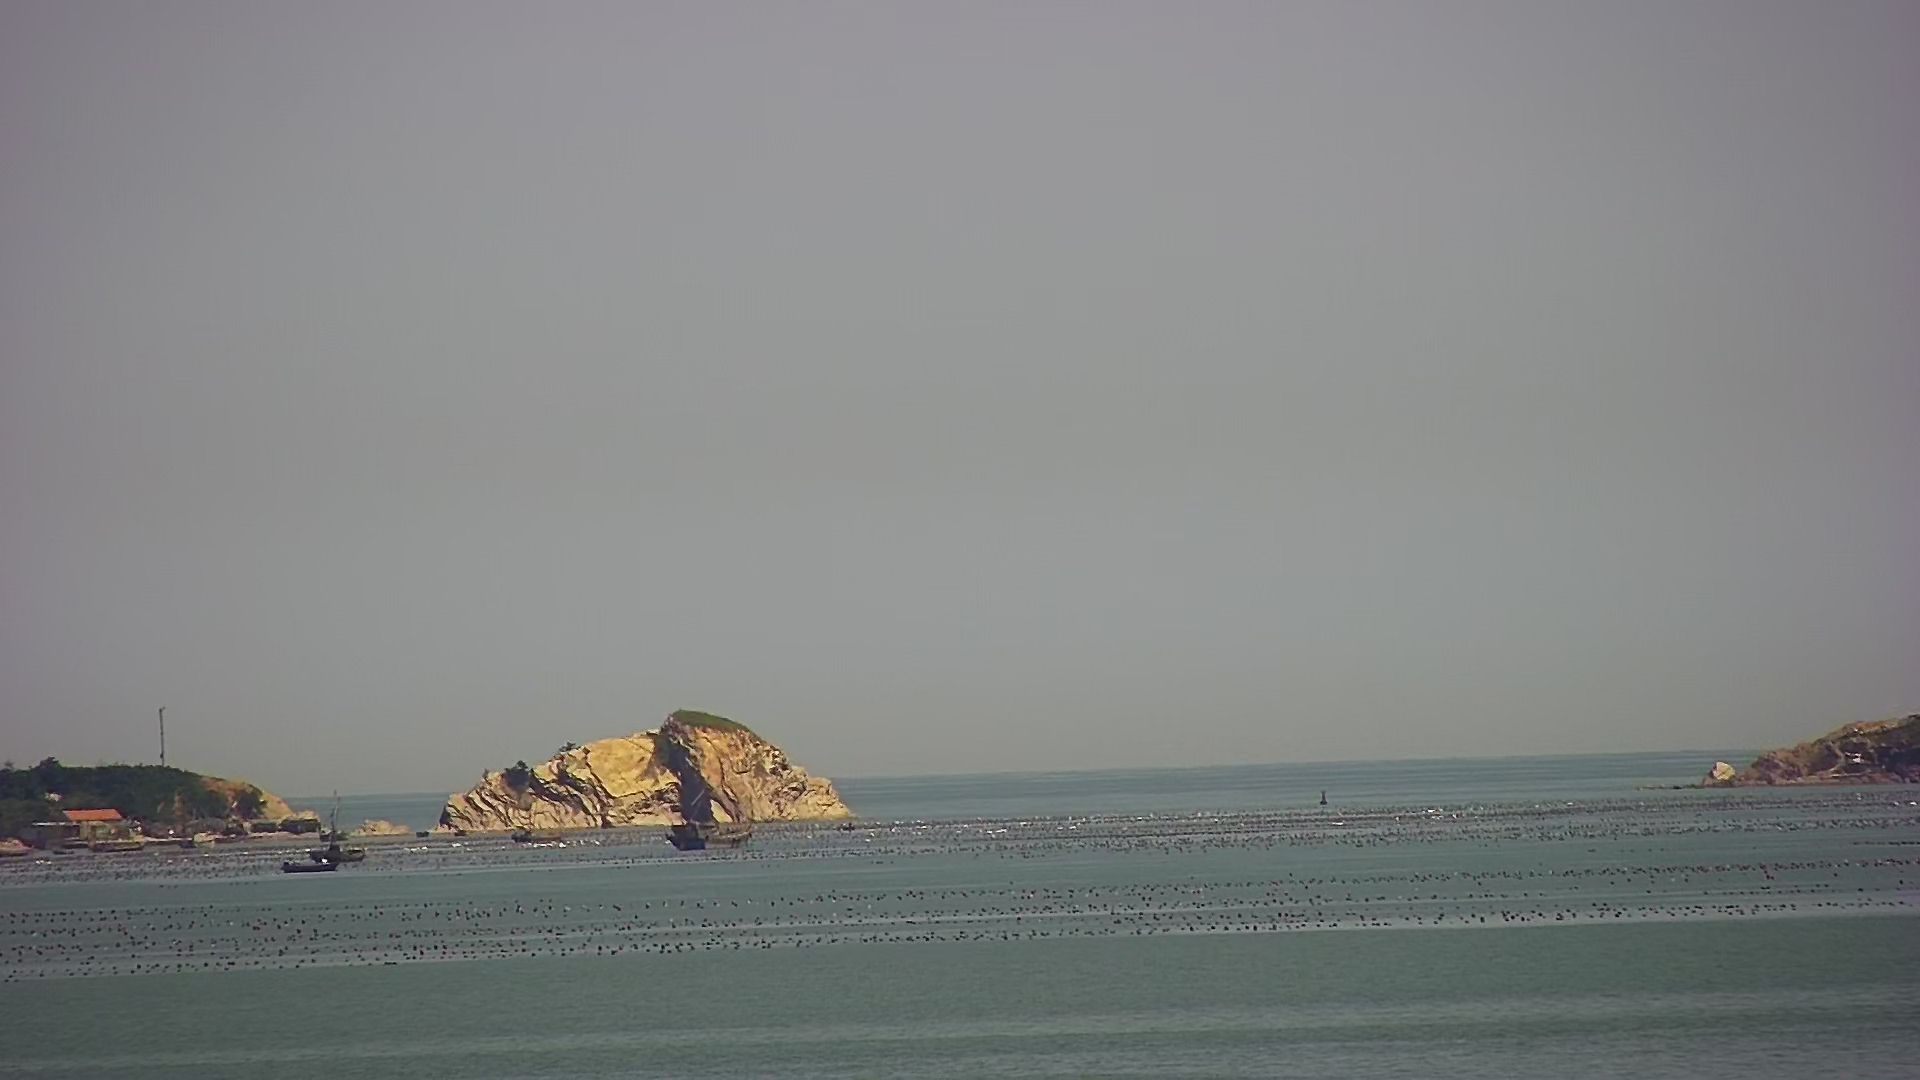boat: (666, 808, 756, 855), (284, 843, 375, 876)
rock: (340, 705, 864, 837), (1638, 712, 1920, 791)
